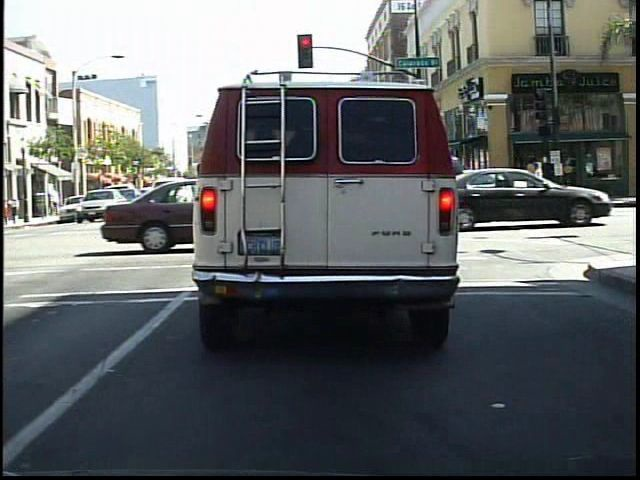person: (536, 153, 559, 204), (511, 159, 531, 205)
